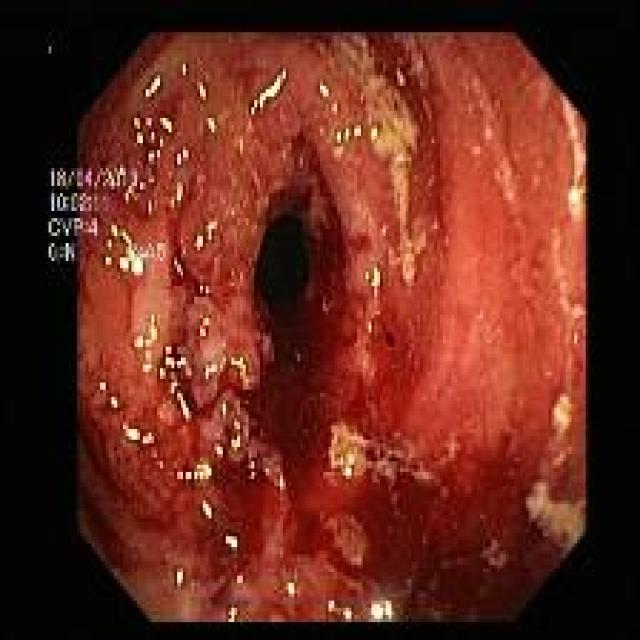ulcerative-colitis: (51, 33, 585, 623)
